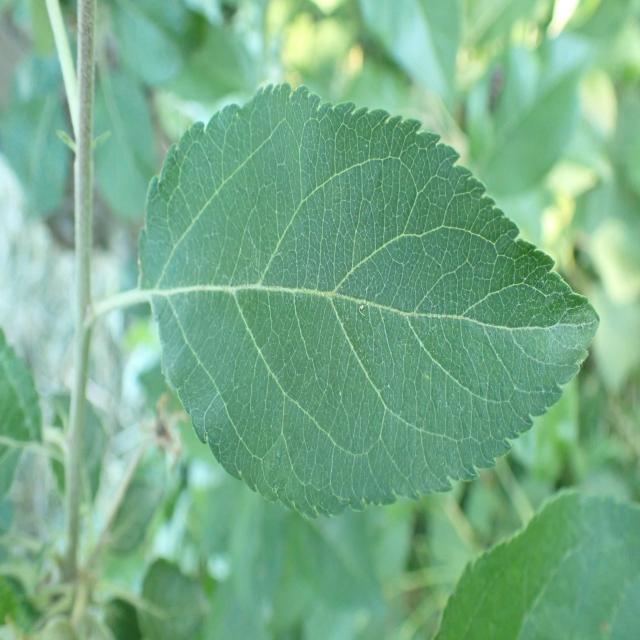healthy: (137, 81, 601, 519), (430, 486, 640, 640), (0, 328, 43, 498)
